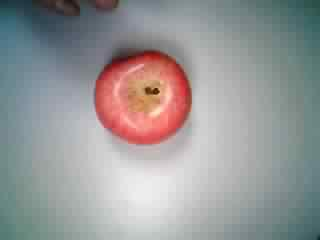apple: (92, 50, 197, 152)
